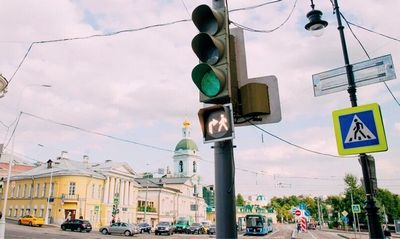tl: (188, 1, 243, 106)
